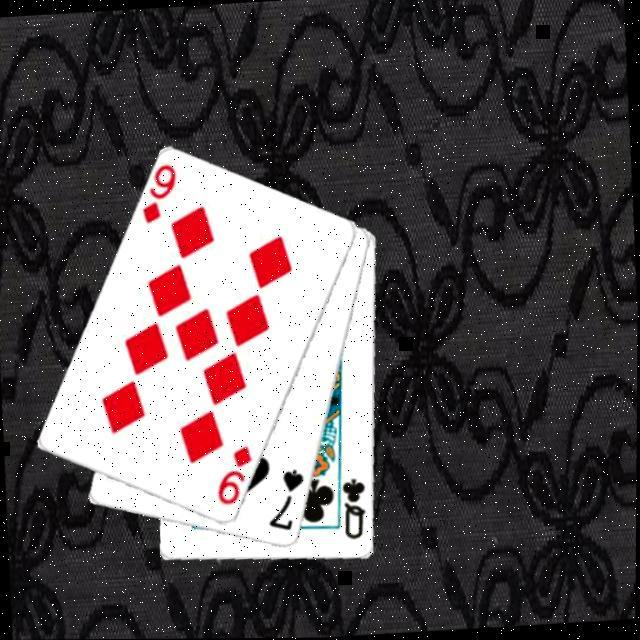7S: (263, 465, 308, 534)
9D: (210, 441, 256, 507), (134, 160, 180, 226)
QC: (338, 474, 370, 542)
